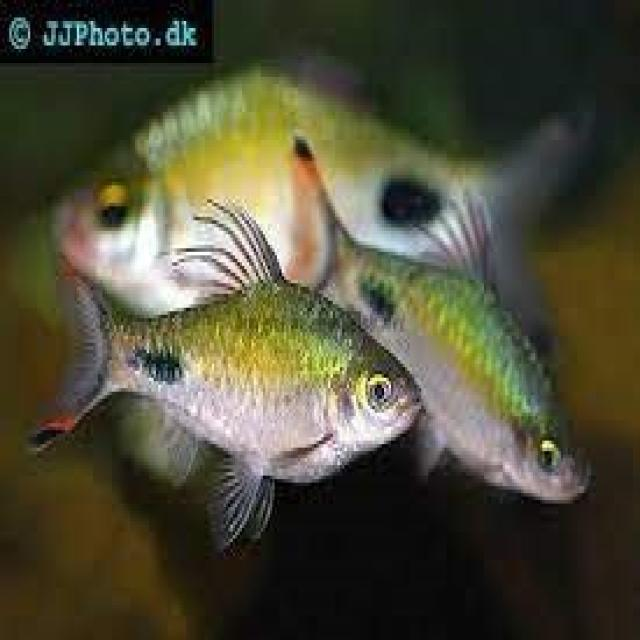Black-Spotted-Barb: (15, 223, 422, 530)
